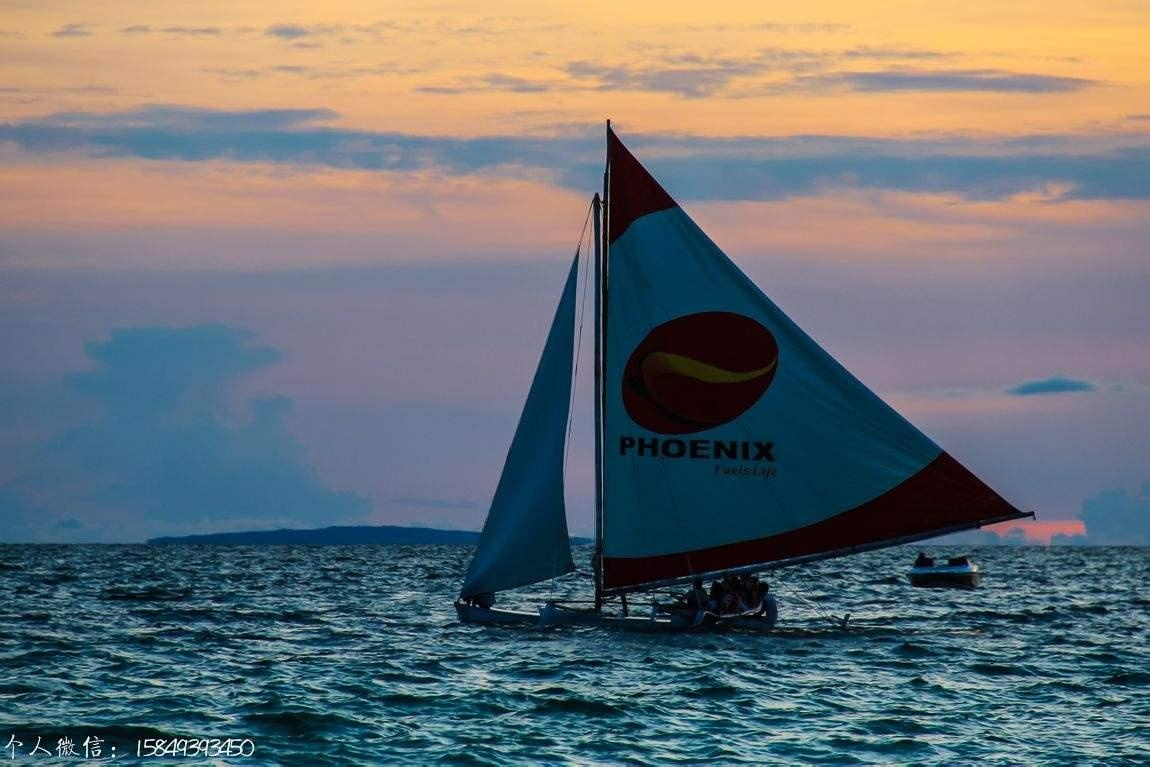fanchuan: (450, 116, 1037, 637)
otherboat: (898, 551, 987, 590)
